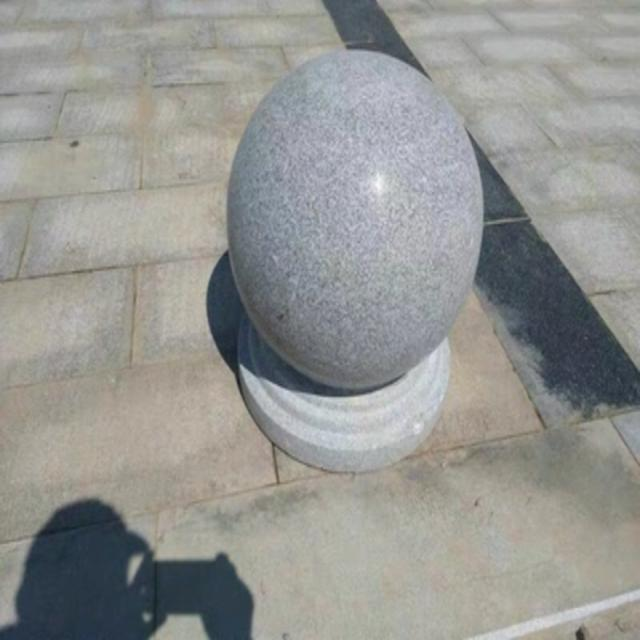spherical_roadblock: (221, 45, 483, 467)
